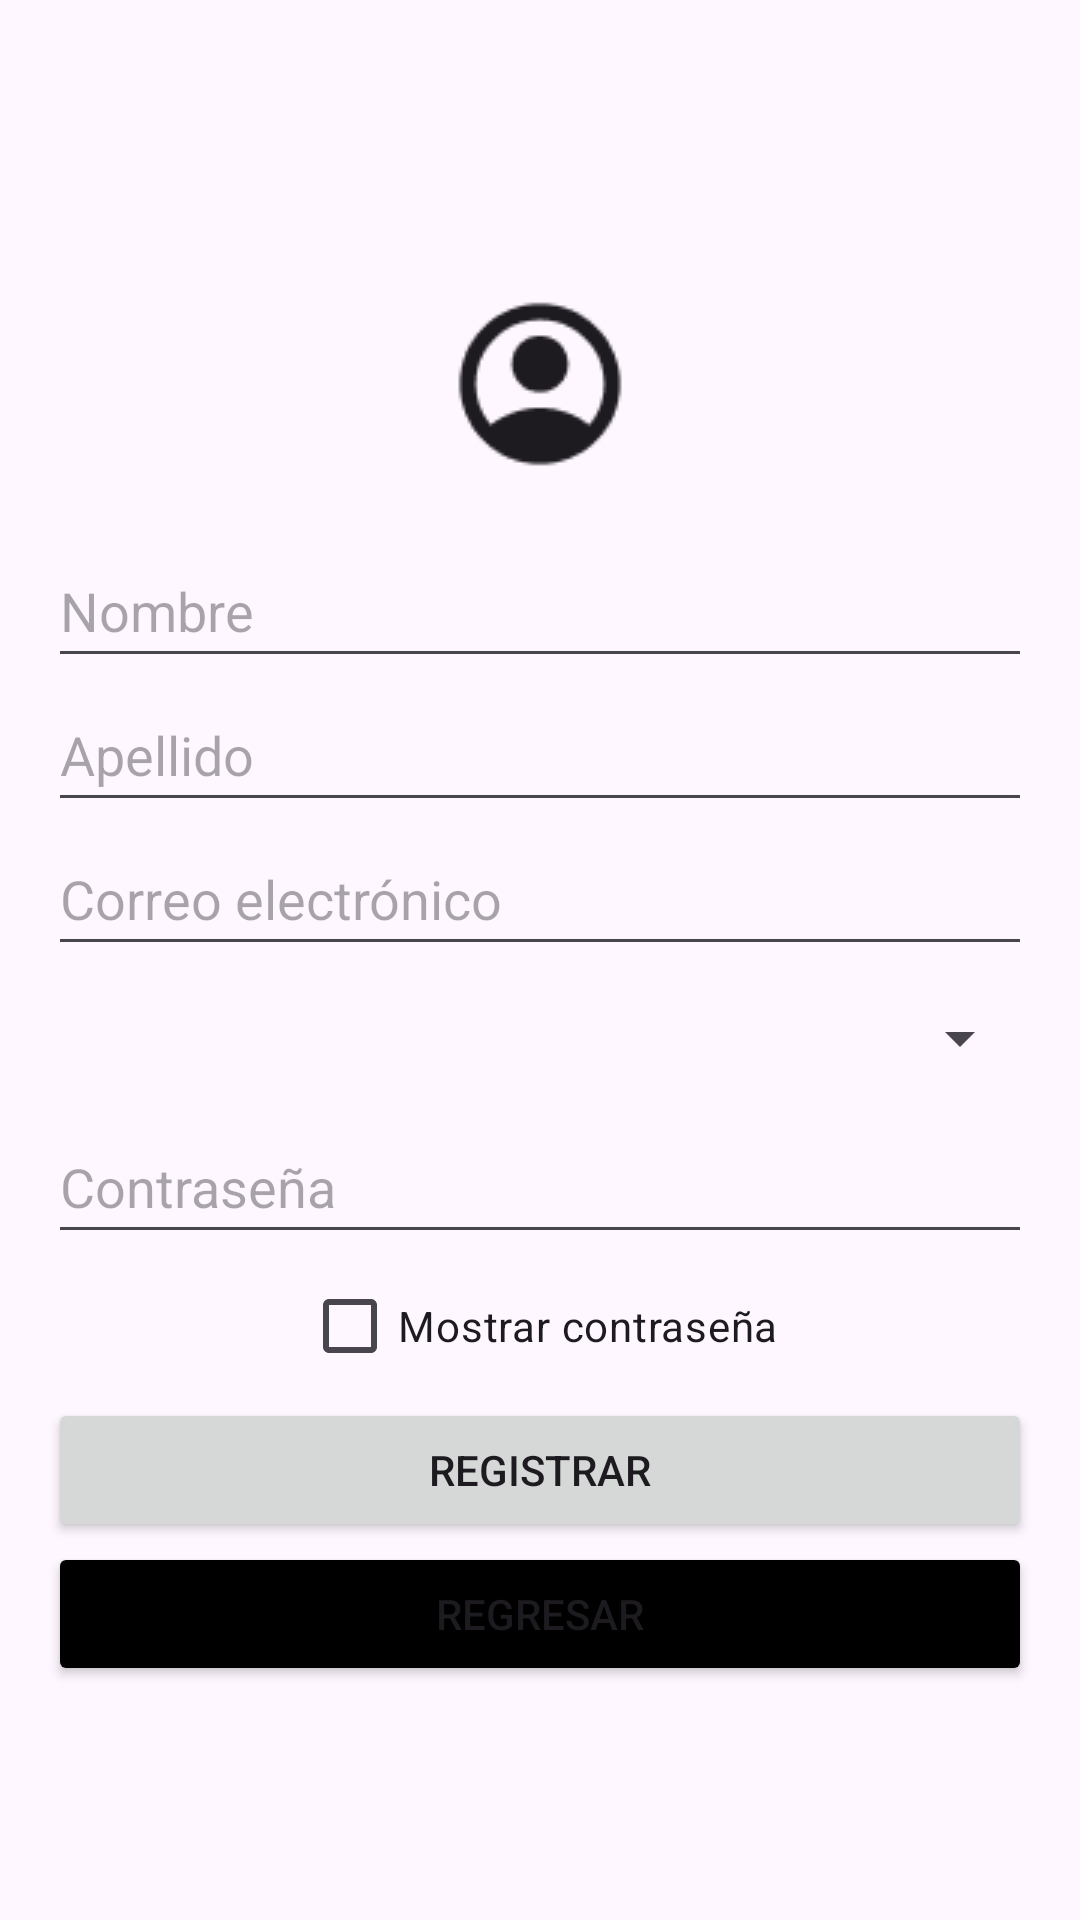

Screen size 1080 x 1920. Icon name, then its box in pixels as (x1, y1, x2, y2):
user: (458, 302, 622, 466)
